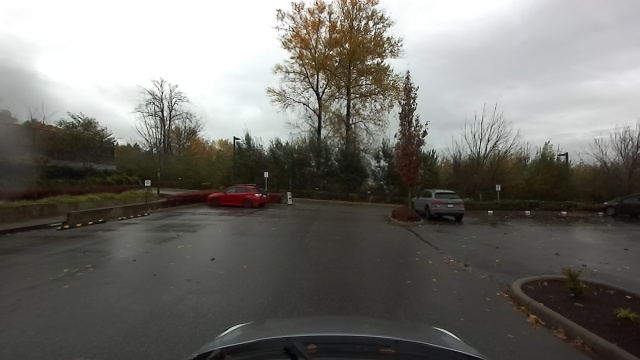car: (410, 185, 469, 227), (202, 184, 268, 211)
